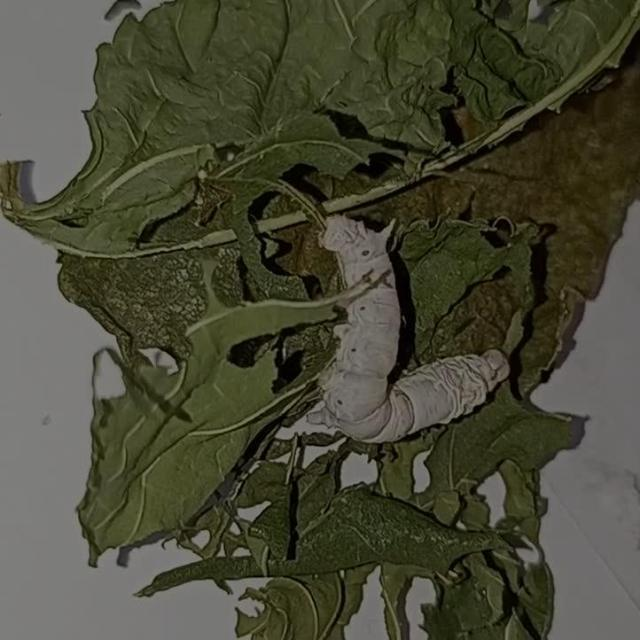Healthy: (296, 195, 526, 461)
